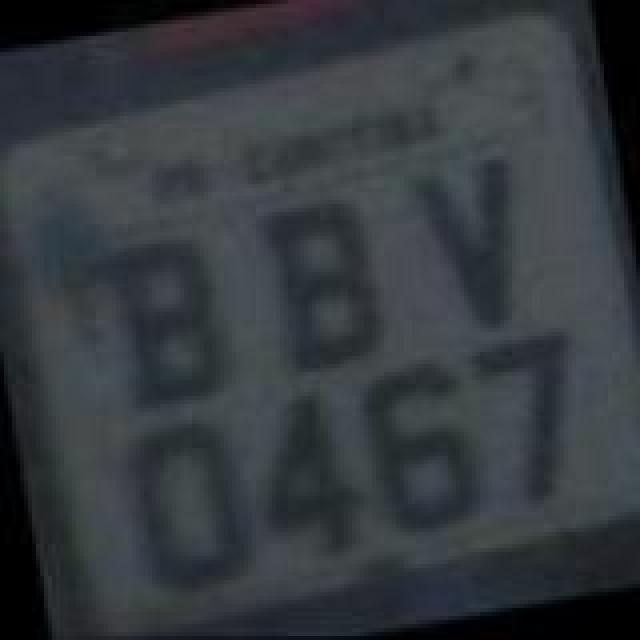4: (240, 384, 372, 572)
6: (348, 354, 488, 542)
7: (464, 324, 596, 516)
B: (254, 188, 394, 384), (98, 228, 238, 416)
O: (114, 408, 262, 600)
V: (402, 154, 538, 350)
